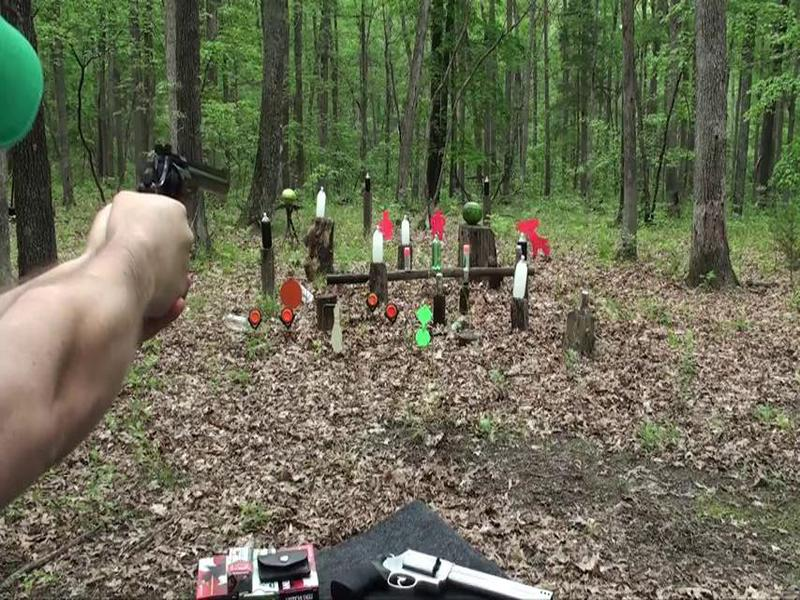Revolver: (130, 137, 246, 229)
